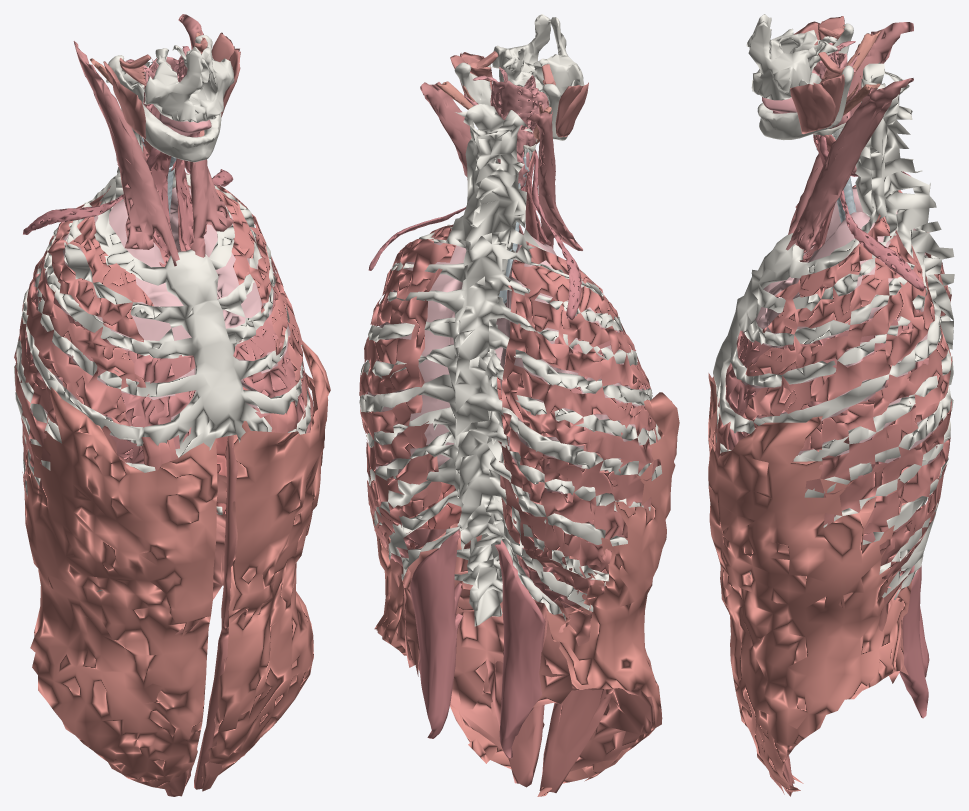
File: vocal-anatomy.glb
3 views of the same model, side by side, from view 1: azimuth 30°, elevation 25°; view 2: azimuth 150°, elevation 25°; view 3: azimuth 270°, elevation 25° (orthographic). The views are drawn at different scales.
Parts seen in each view (by area): view 1: external-oblique, thoracic-cage, external-intercostals, sternocleidomastoid, internal-intercostals, maxilla-palate, rectus-abdominis, right-lung, mandible, left-lung, abdominal-wall, sternohyoid (+4 smaller); view 2: thoracic-cage, external-intercostals, external-oblique, abdominal-wall, quadratus-lumborum, rectus-abdominis, sternocleidomastoid, left-lung, maxilla-palate, internal-intercostals, pharyngeal-constrictors, omohyoid (+5 smaller); view 3: external-oblique, thoracic-cage, external-intercostals, sternocleidomastoid, maxilla-palate, internal-intercostals, left-lung, masseter, quadratus-lumborum, mandible, omohyoid, abdominal-wall (+4 smaller).
Part boxes in pixels (x1=…): external-oblique: x1=22, y1=340, x2=330, y2=789; thoracic-cage: x1=14, y1=61, x2=310, y2=591; external-intercostals: x1=14, y1=173, x2=313, y2=497; sternocleidomastoid: x1=73, y1=14, x2=234, y2=266; internal-intercostals: x1=18, y1=236, x2=311, y2=463; maxilla-palate: x1=144, y1=45, x2=234, y2=122; rectus-abdominis: x1=141, y1=400, x2=297, y2=796; right-lung: x1=29, y1=200, x2=196, y2=441; mandible: x1=108, y1=35, x2=221, y2=162; left-lung: x1=169, y1=187, x2=306, y2=429; abdominal-wall: x1=32, y1=413, x2=307, y2=796; sternohyoid: x1=151, y1=152, x2=193, y2=256; thoracic-cage: x1=359, y1=104, x2=662, y2=626; external-intercostals: x1=359, y1=224, x2=660, y2=594; external-oblique: x1=367, y1=392, x2=679, y2=796; abdominal-wall: x1=369, y1=411, x2=654, y2=771; quadratus-lumborum: x1=410, y1=529, x2=545, y2=758; rectus-abdominis: x1=485, y1=606, x2=613, y2=792; sternocleidomastoid: x1=420, y1=82, x2=582, y2=250; left-lung: x1=368, y1=242, x2=506, y2=473; maxilla-palate: x1=492, y1=14, x2=584, y2=95; internal-intercostals: x1=362, y1=289, x2=653, y2=607; pharyngeal-constrictors: x1=490, y1=80, x2=549, y2=188; omohyoid: x1=368, y1=149, x2=581, y2=320; external-oblique: x1=708, y1=373, x2=912, y2=792; thoracic-cage: x1=713, y1=62, x2=954, y2=599; external-intercostals: x1=742, y1=185, x2=952, y2=579; sternocleidomastoid: x1=786, y1=22, x2=913, y2=251; maxilla-palate: x1=746, y1=14, x2=837, y2=100; internal-intercostals: x1=718, y1=229, x2=948, y2=588; left-lung: x1=742, y1=212, x2=938, y2=505; masseter: x1=790, y1=16, x2=844, y2=134; quadratus-lumborum: x1=899, y1=565, x2=929, y2=718; mandible: x1=757, y1=23, x2=853, y2=140; omohyoid: x1=817, y1=135, x2=926, y2=290; abdominal-wall: x1=715, y1=444, x2=908, y2=794.
Bounding box in the file's own units: 28.01 × 73.75 × 21.4.
